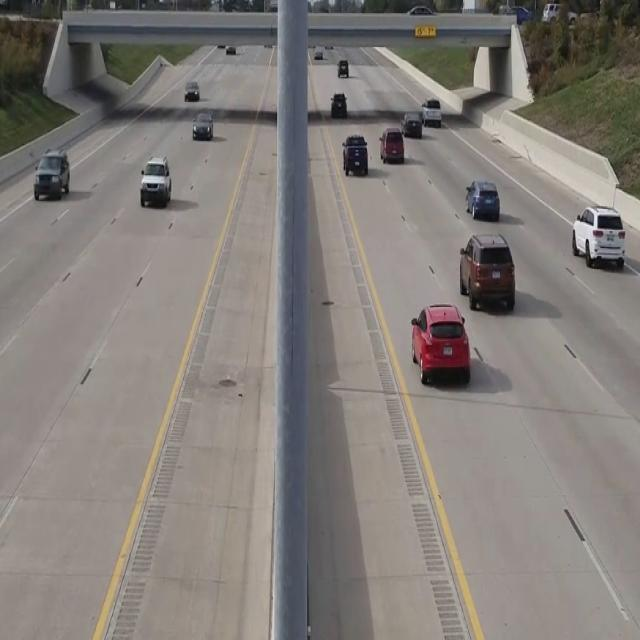car: (410, 303, 470, 384), (458, 232, 516, 311), (572, 205, 625, 269), (34, 149, 70, 200), (139, 156, 171, 208), (466, 179, 499, 219), (341, 134, 368, 176), (379, 125, 404, 163), (192, 111, 213, 140), (331, 92, 346, 118), (184, 80, 199, 100)
